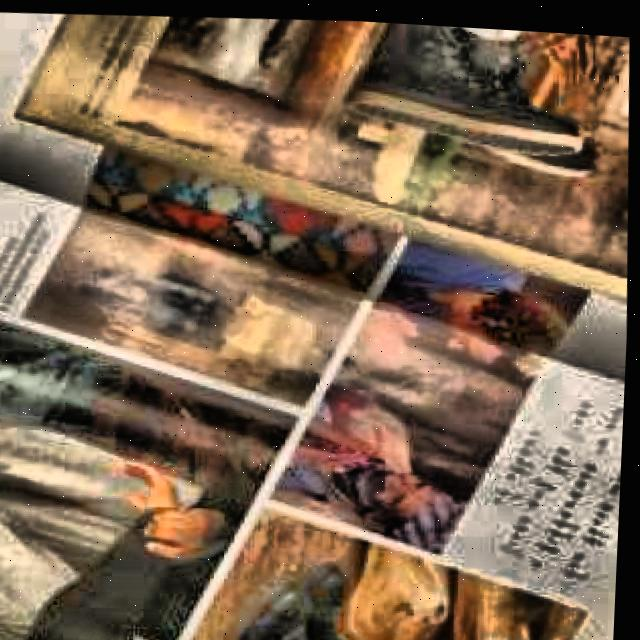paper: (0, 0, 640, 640), (0, 125, 636, 640), (0, 0, 640, 417)
